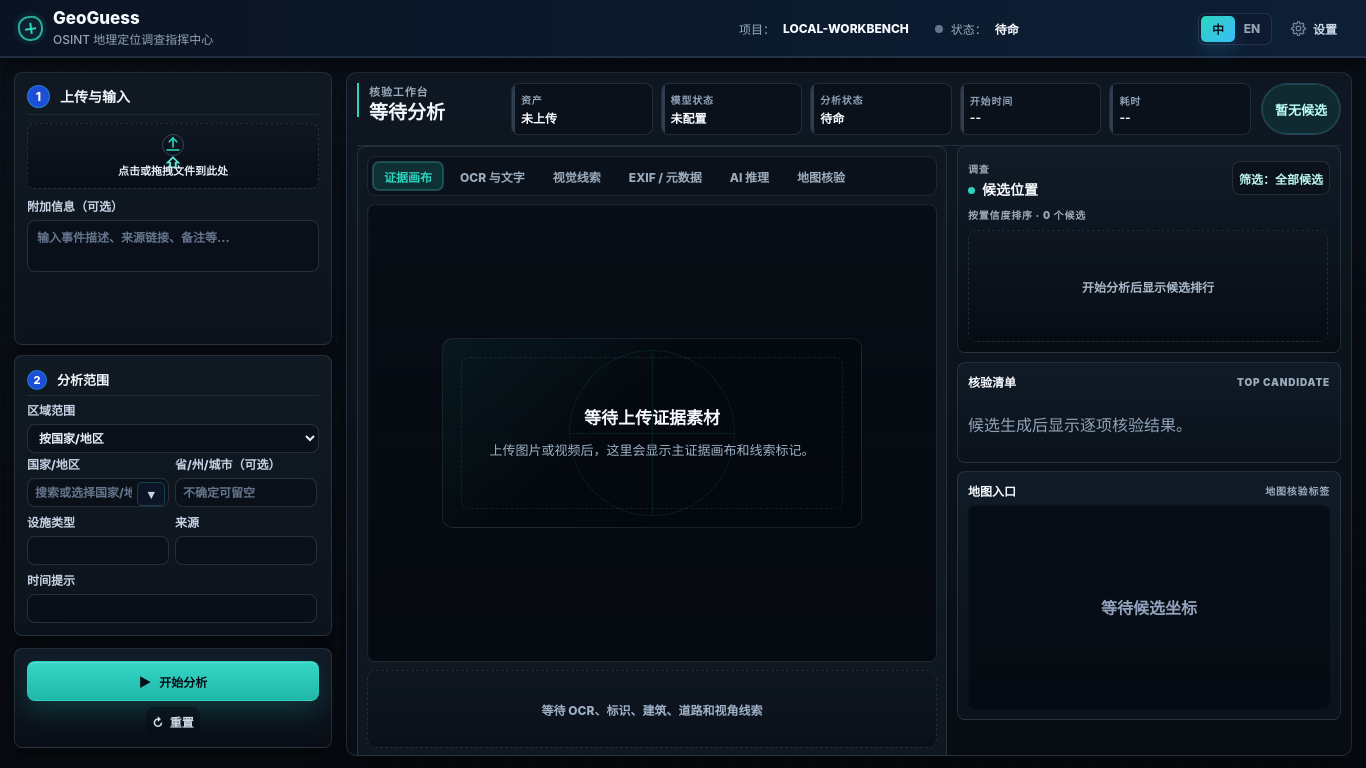
Test: App › renders the investigation workspace
Check: the heading "GeoGuess" is shown, box [53,8,140,28]
Check: the text "OSINT 地理定位调查指挥中心" is shown, box [53,30,213,47]
Click the button "设置". click: {"x": 1314, "y": 28}
box: [1280,12,1348,46]
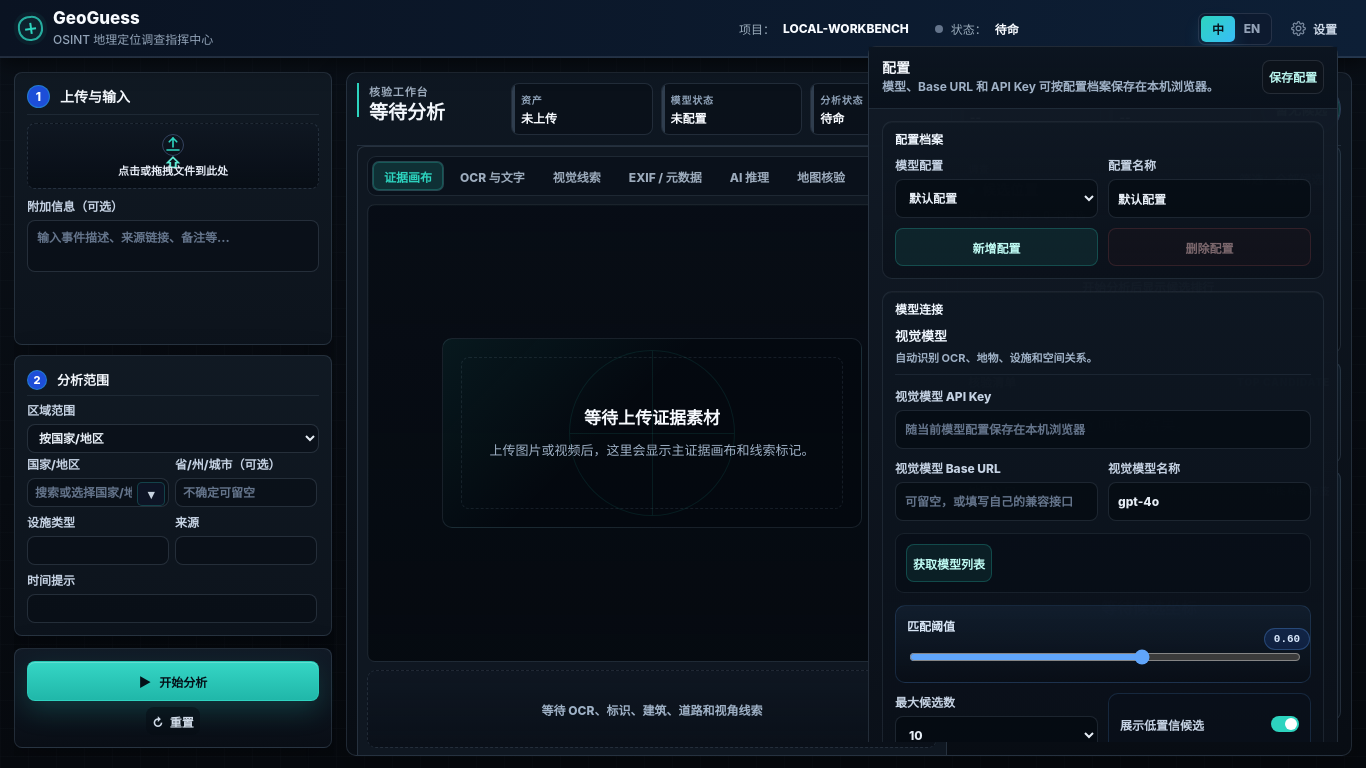
Check: the heading "配置" is shown, box [882,58,910,76]
Check: the heading "视觉模型" is shown, box [895,328,947,344]
Check: the button "保存配置" is shown, box [1262,60,1324,94]
